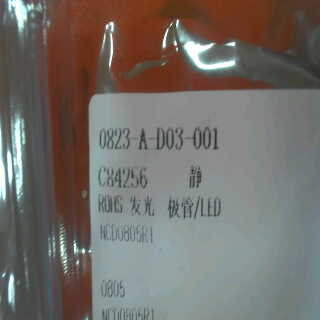LED: (124, 195, 233, 221)
